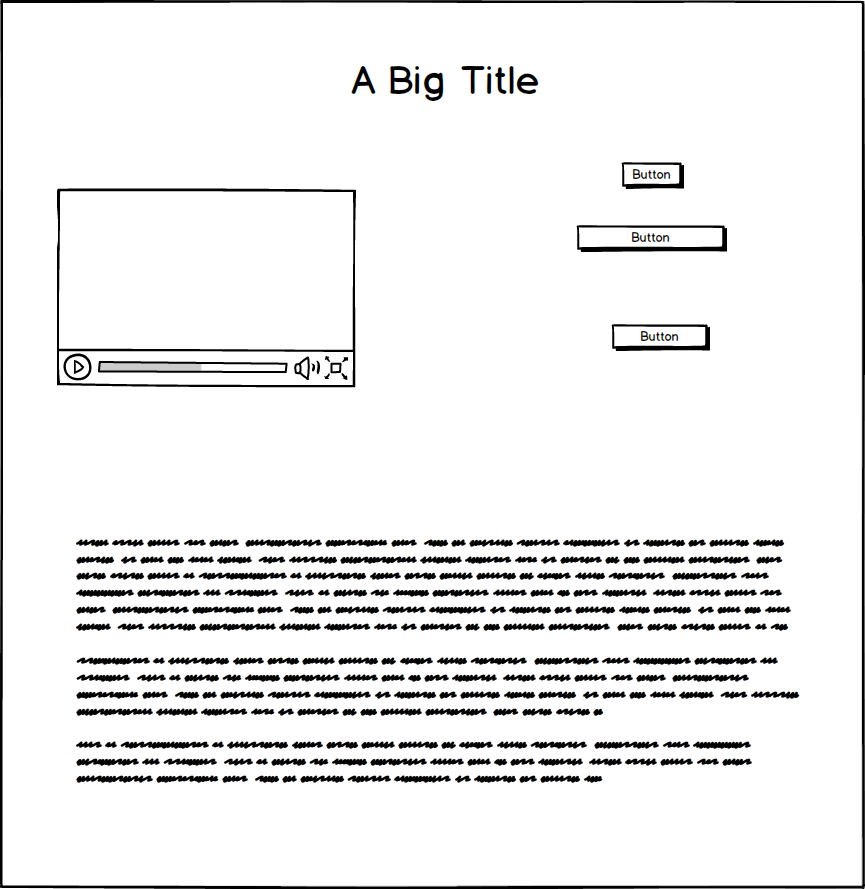button: (572, 220, 732, 255), (606, 321, 718, 355), (614, 155, 687, 194)
h1: (336, 58, 543, 102)
p: (68, 532, 806, 793)
video: (52, 182, 361, 394)
